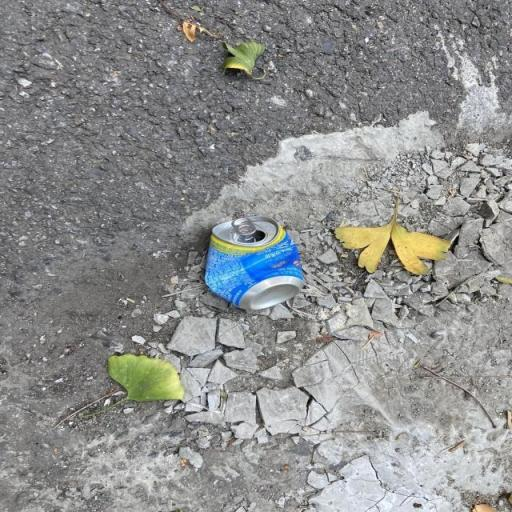metal: (179, 196, 341, 330)
